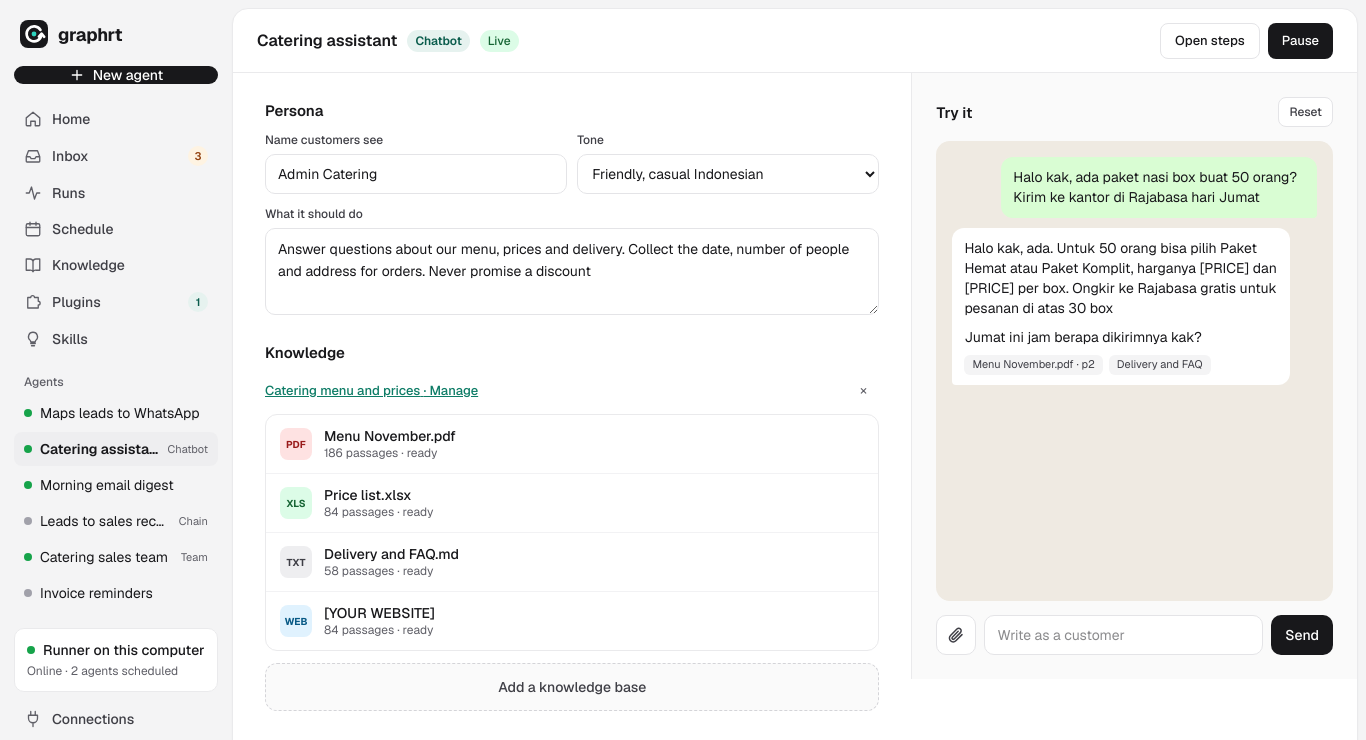
Test: ChatbotSetupPage › answers a test message in a real test conversation
Expected: the text "Jumat ini jam berapa dikirimnya kak?" is shown, x1=964 y1=328 x2=1202 y2=346
Type "Ongkir gratis?" into the field named "Test message" at coordinates (1124, 635), box x1=984 y1=615 x2=1263 y2=655
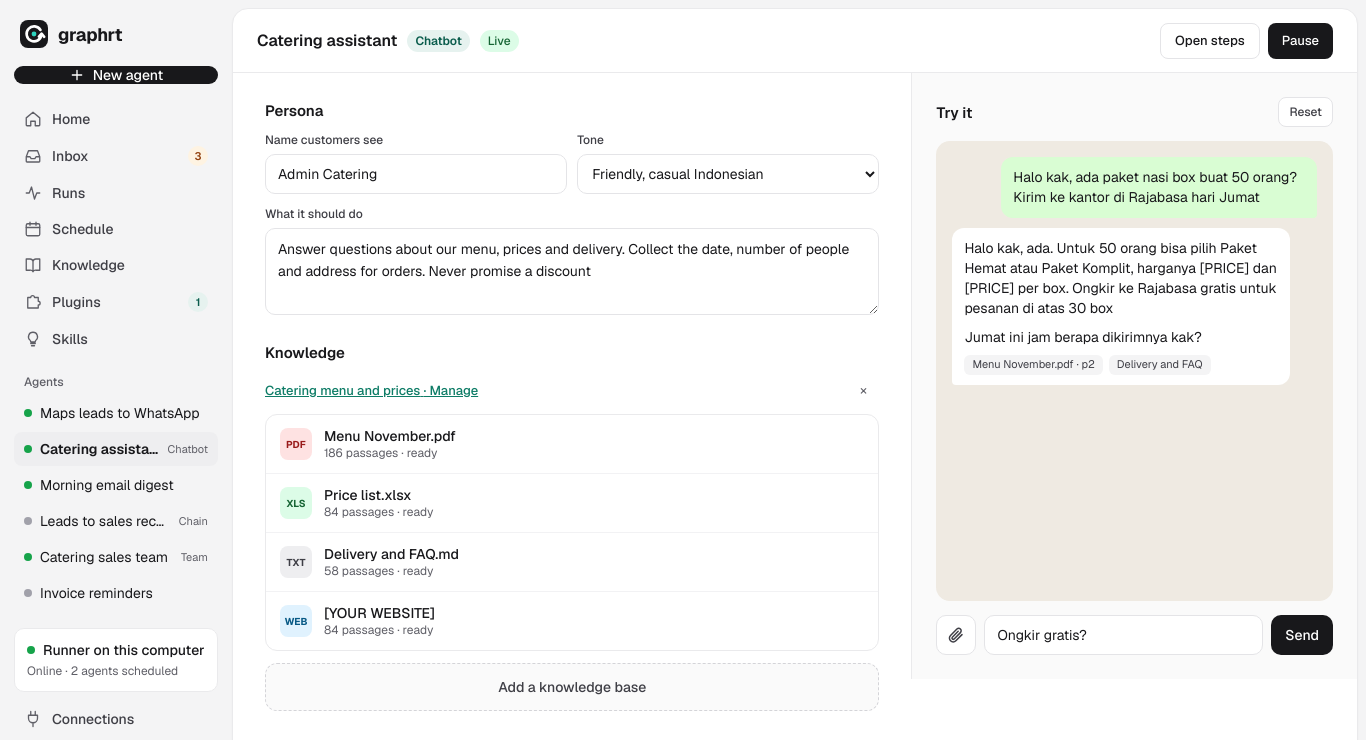
Click the button "Send" at coordinates (1302, 635), box x1=1271 y1=615 x2=1333 y2=655
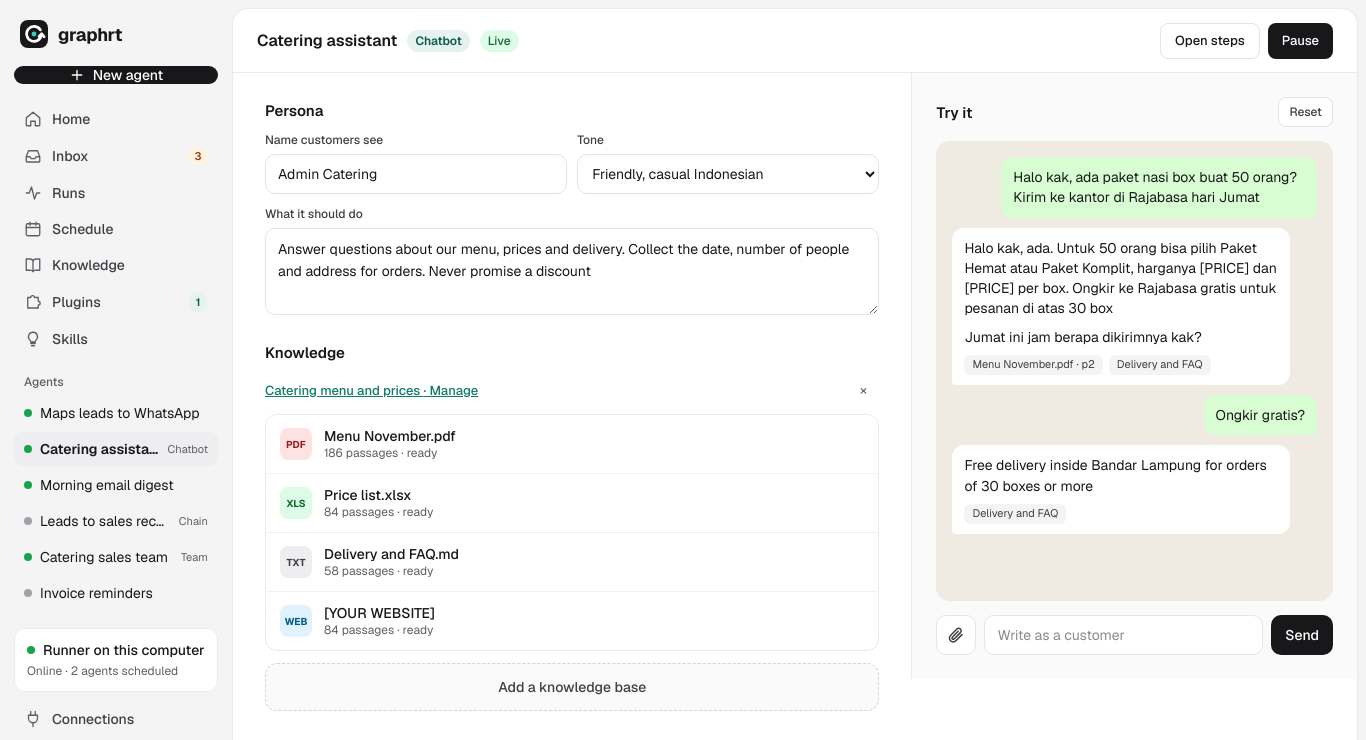
Expected: the text "Ongkir gratis?" is shown, x1=1204 y1=395 x2=1317 y2=435
Expected: the text "Free delivery inside Bandar Lampung for orders of 30 boxes or more" is shown, x1=964 y1=455 x2=1278 y2=496
